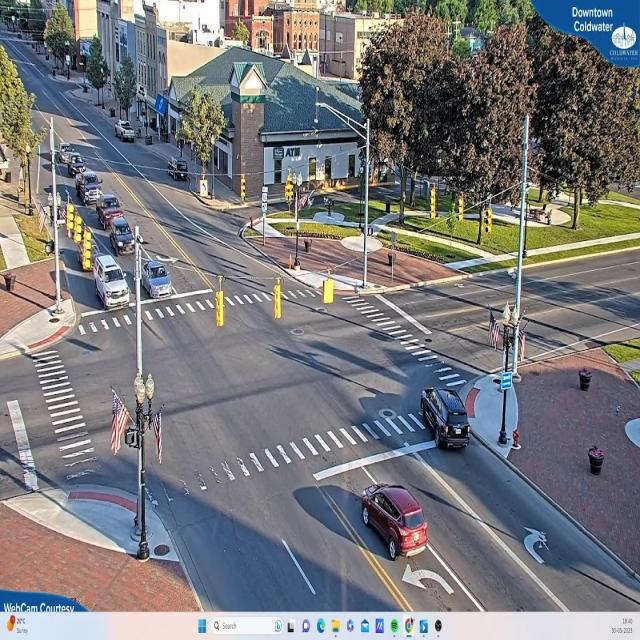car: (358, 487, 429, 563), (421, 389, 468, 452), (93, 255, 130, 315), (141, 261, 174, 299), (110, 213, 136, 259), (97, 190, 124, 228), (117, 123, 136, 143)
